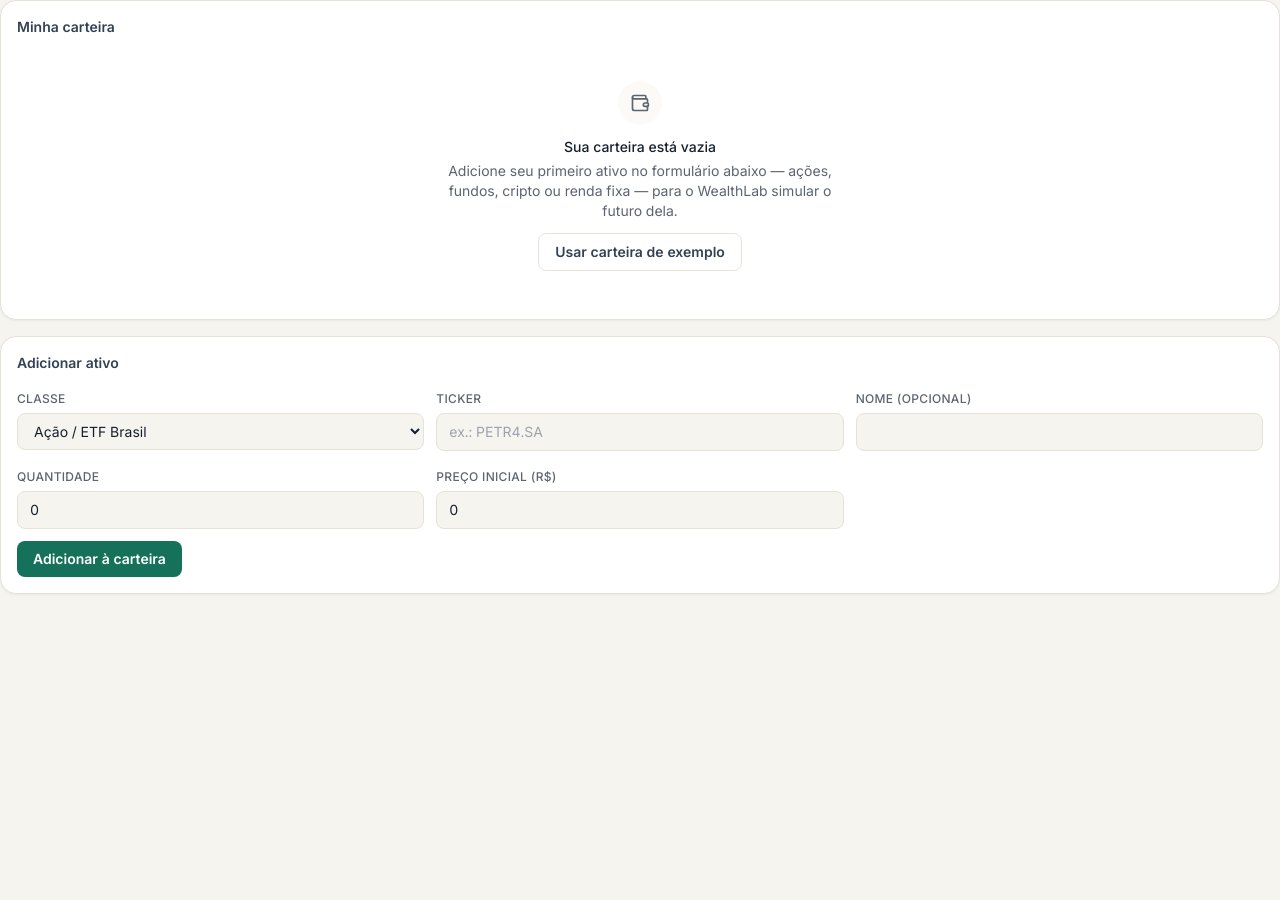
it: PortfolioEditor › rejeita ticker vazio
Click the button "Adicionar à carteira".
click(99, 559)  # box [17,541,182,577]
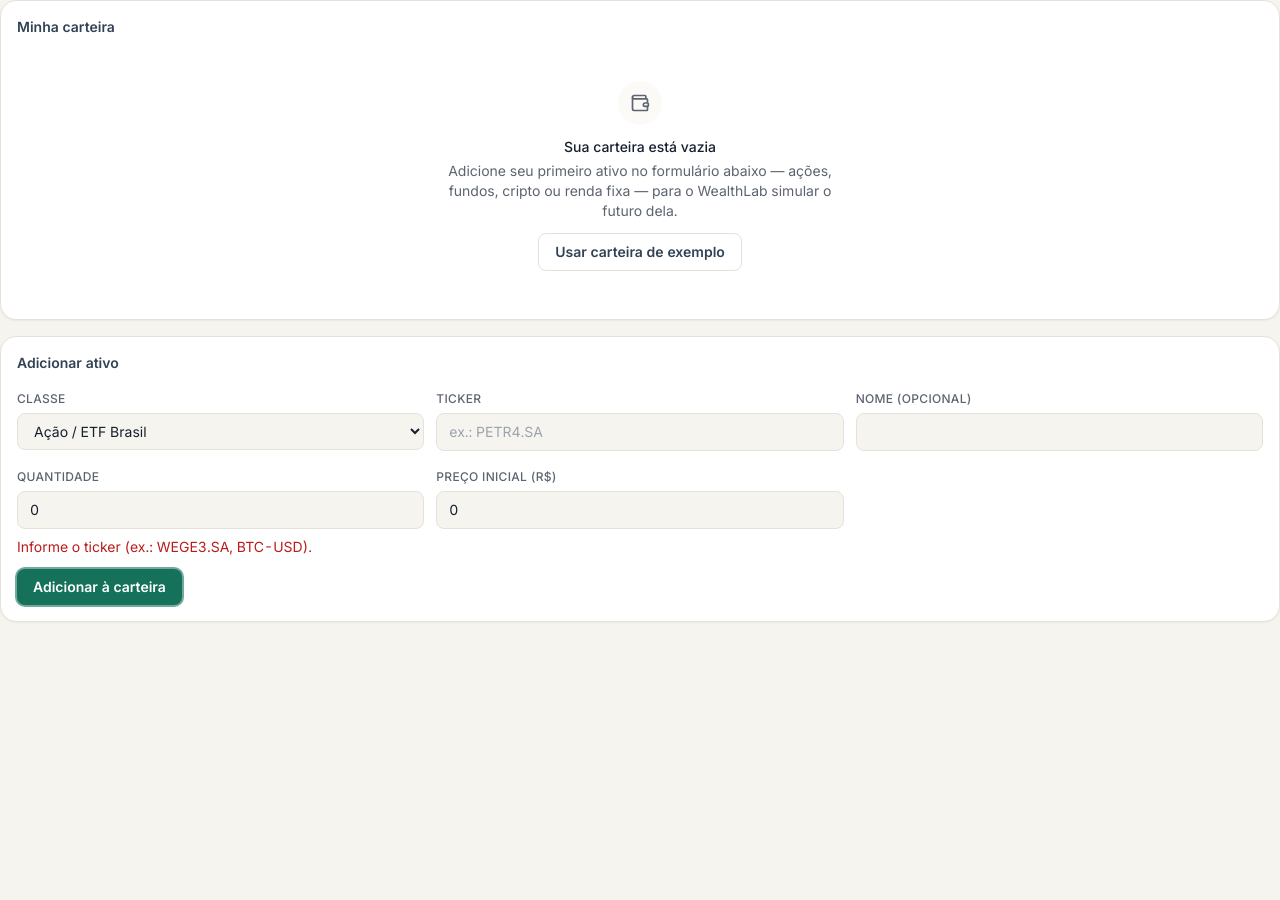
Expected: the text "Informe o ticker (ex.: WEGE3.SA, BTC-USD)." is shown, [17,538,312,555]
